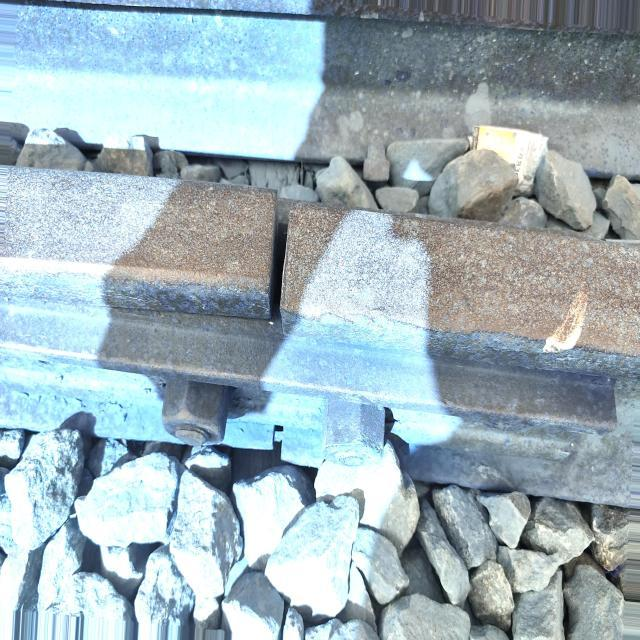Defective Joint: (7, 154, 610, 516)
